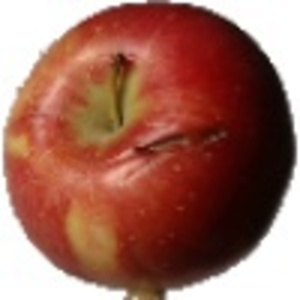maçã braeburn: (1, 1, 298, 288)
